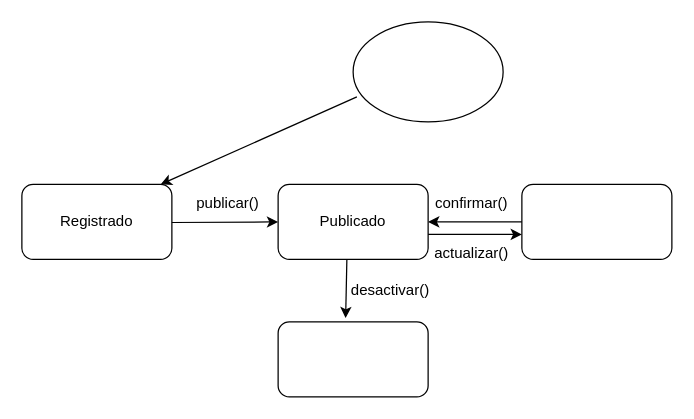
The diagram is 694 pixels wide and 419 high, and some of its shapes have lost their labels. Here are the shapes that lost their labels. From the top down, the box of each, then its label:
(521, 183, 672, 259): Actualizado
(277, 321, 428, 397): Inactivo
